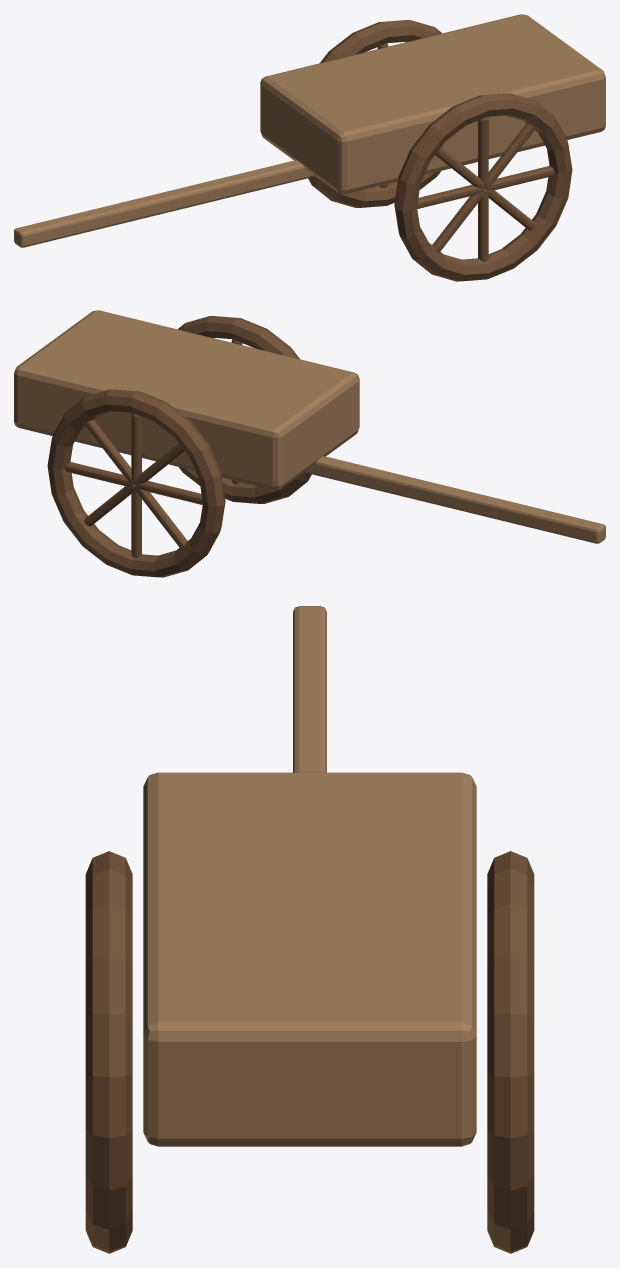
Rendered from prop-cart.glb.
3 views of the same model, one above another, from view 1: azimuth 30°, elevation 25°; view 2: azimuth 150°, elevation 25°; view 3: azimuth 270°, elevation 25° (orthographic). The views are drawn at different scales.
Parts seen in each view (by area): view 1: Aged oak, Dark beams; view 2: Aged oak, Dark beams; view 3: Aged oak, Dark beams.
Part boxes in pixels (x1,y1,x2,y2): Aged oak: (14,14,605,247); Dark beams: (308,20,572,281); Aged oak: (14,310,605,543); Dark beams: (47,316,311,577); Aged oak: (143,606,476,1146); Dark beams: (85,851,534,1253).
Bounding box in the file's own units: 2.98 × 0.95 × 1.05.
